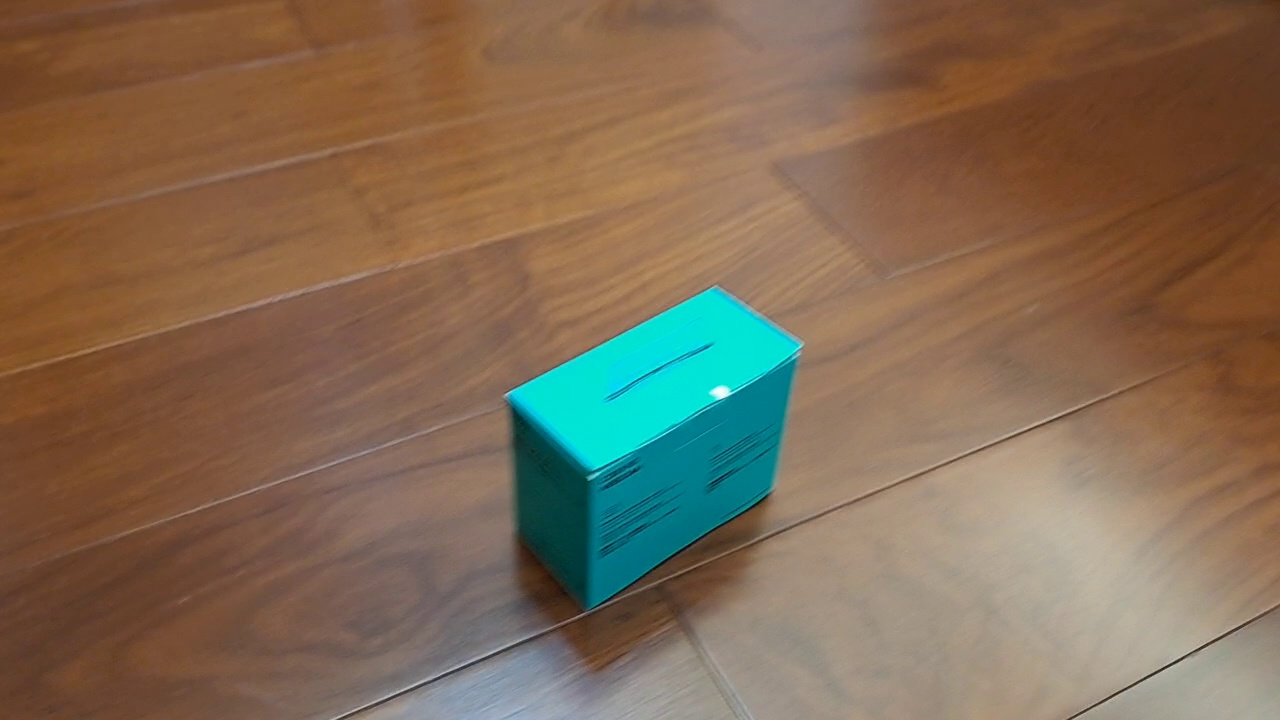webcam: (500, 283, 806, 614)
